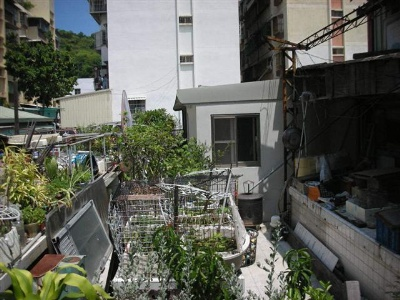bucket: (238, 192, 265, 228)
styrofoam: (345, 196, 399, 227)
